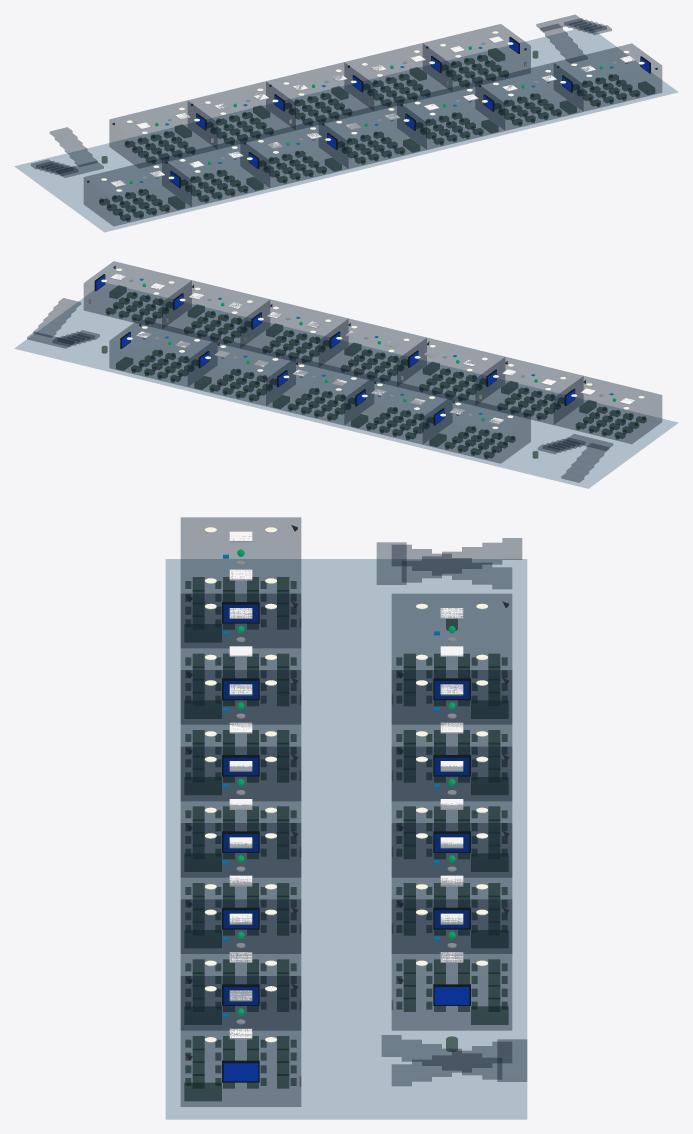
The model's file is FloorType3_Top.glb.
The picture shows the model from 3 angles, top to bottom: view 1: azimuth 30°, elevation 25°; view 2: azimuth 150°, elevation 25°; view 3: azimuth 270°, elevation 25°; orthographic projection. The views are drawn at different scales.
Parts seen in each view (by area): view 1: object 1, object 270, object 16, object 366, object 414, object 510, object 558, object 318, object 112, object 160, object 462, object 64 (+3 smaller); view 2: object 1, object 16, object 270, object 64, object 208, object 160, object 112, object 462, object 414, object 366, object 318, object 510 (+3 smaller); view 3: object 1, object 208, object 558, object 510, object 64, object 366, object 160, object 112, object 414, object 462, object 318, object 16 (+3 smaller).
Boxes of the visible parts, x1,y1,x2,y2 form: object 1: (15, 29, 677, 231); object 270: (84, 158, 191, 225); object 16: (109, 100, 217, 168); object 366: (240, 120, 348, 187); object 414: (319, 101, 426, 168); object 510: (475, 63, 583, 130); object 558: (554, 43, 661, 111); object 318: (162, 139, 269, 206); object 112: (266, 62, 373, 129); object 160: (344, 43, 452, 110); object 462: (397, 82, 504, 149); object 64: (188, 81, 295, 148); object 1: (15, 283, 677, 488); object 16: (423, 395, 530, 463); object 270: (554, 376, 661, 443); object 64: (344, 376, 452, 444); object 208: (109, 319, 217, 386); object 160: (188, 338, 295, 405); object 112: (266, 357, 373, 425); object 462: (240, 299, 348, 366); object 414: (319, 319, 426, 386); object 366: (397, 338, 504, 405); object 318: (475, 357, 583, 424); object 510: (162, 280, 269, 347); object 1: (166, 559, 526, 1119); object 208: (392, 899, 511, 1030); object 558: (181, 976, 300, 1106); object 510: (181, 899, 300, 1030); object 64: (392, 670, 511, 800); object 366: (181, 670, 300, 800); object 160: (392, 823, 511, 953); object 112: (392, 747, 511, 877); object 414: (181, 747, 300, 877); object 462: (181, 823, 300, 953); object 318: (181, 594, 300, 724); object 16: (392, 594, 511, 724).
Bounding box in the file's own units: 88 × 4.01 × 24.
